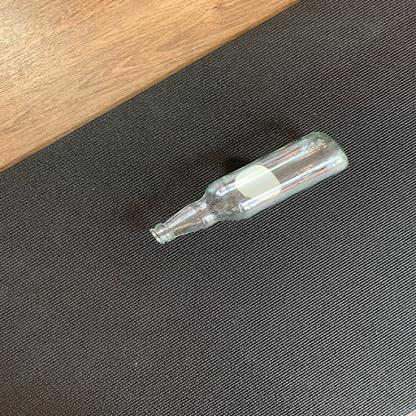trash: (145, 130, 355, 246)
